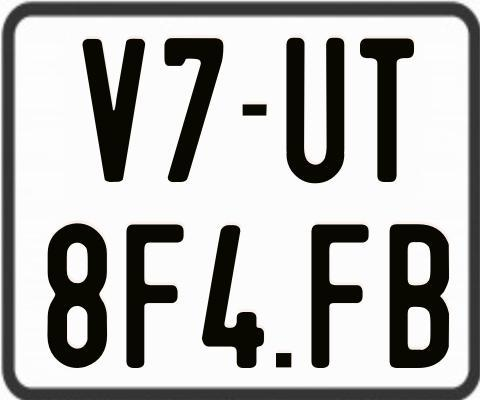4: (199, 222, 264, 371)
7: (162, 38, 224, 184)
8: (47, 222, 112, 373)
B: (390, 222, 452, 372)
F: (124, 222, 185, 370), (310, 224, 368, 372)
T: (357, 36, 412, 186)
U: (284, 38, 343, 188)
V: (83, 39, 150, 187)
